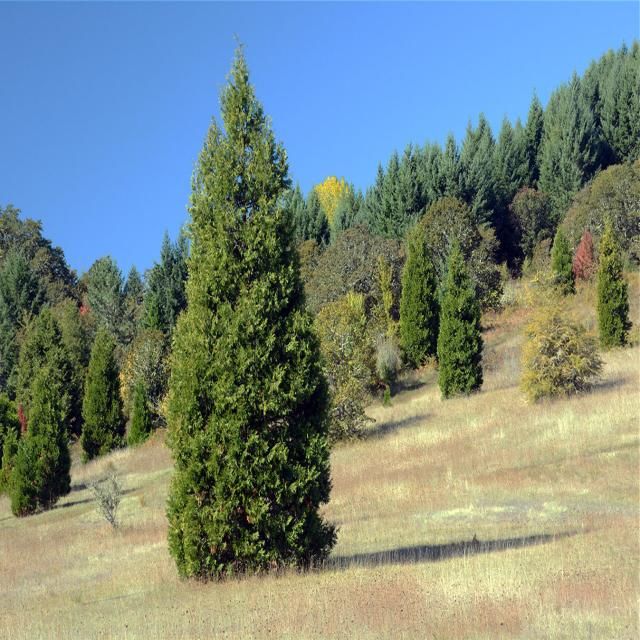Calocedrus decurrens: (150, 31, 346, 584), (434, 240, 485, 394), (14, 382, 70, 507), (78, 321, 126, 454), (588, 224, 634, 354), (398, 231, 432, 369), (547, 230, 577, 296)
